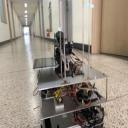cart: (38, 61, 110, 127)
